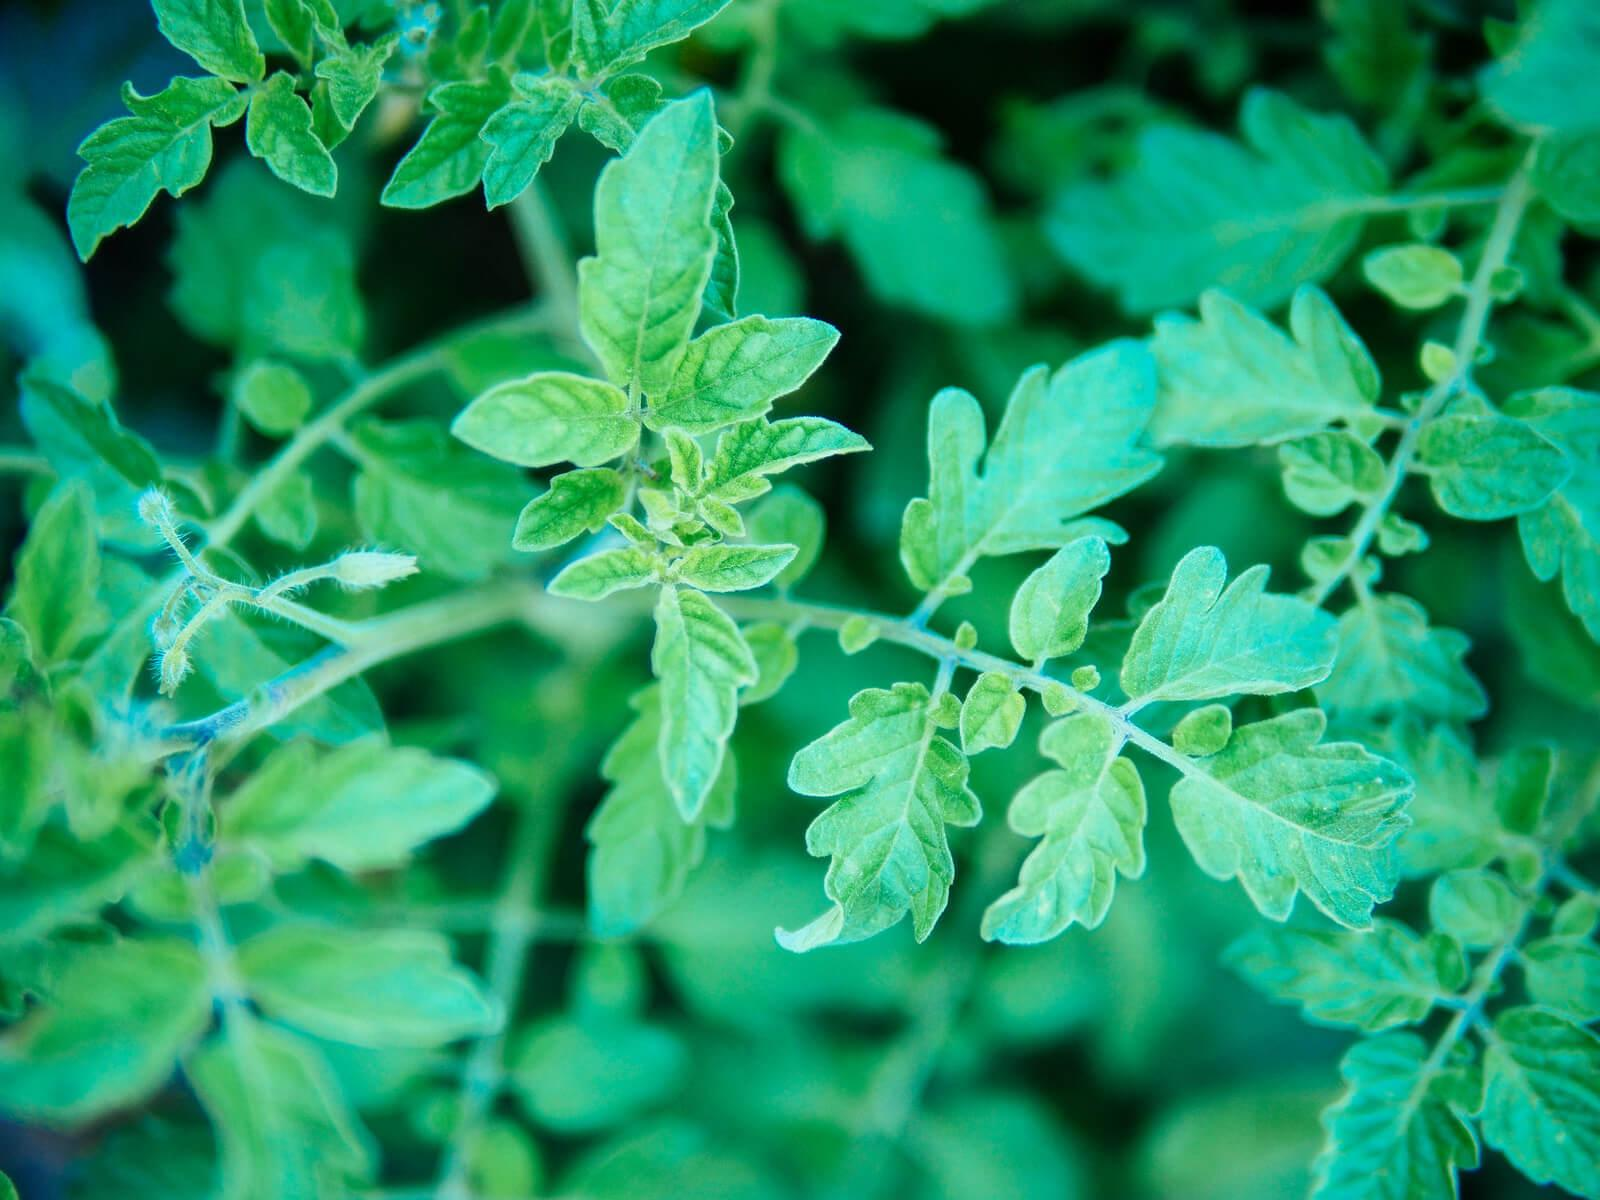Tomato leaf bacterial spot: (894, 330, 1157, 620), (775, 662, 981, 977), (1164, 703, 1417, 937), (580, 81, 709, 411), (1115, 543, 1356, 720), (998, 692, 1136, 992), (630, 303, 860, 436), (643, 571, 755, 824), (449, 373, 637, 473)
